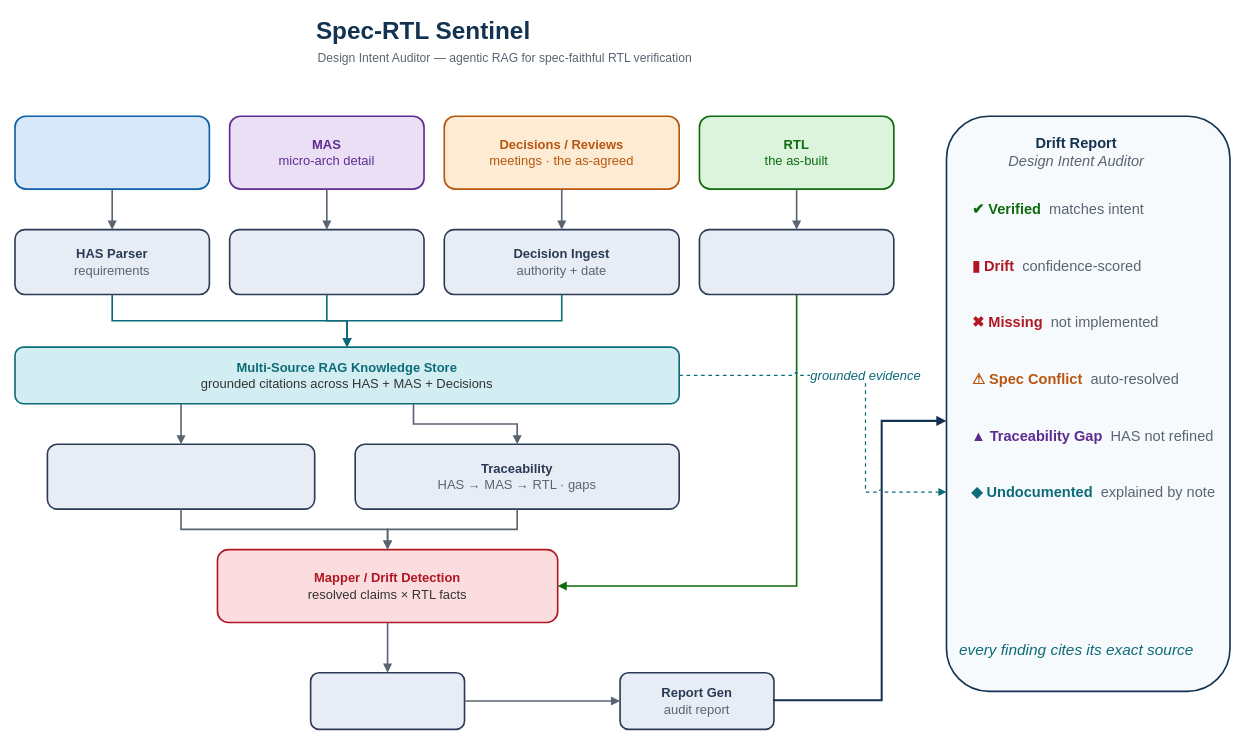
This 1244x744 diagram has some shape labels left out. The centre of each missing label's shape, as x and y in pixels:
Authority Resolver spec vs decisions → conflicts: the point at 180,476
Claim Extractor testable claims: the point at 326,261
HAS top-level intent: the point at 112,152
RTL Scanner ports · regs · FSM: the point at 796,261
Sim Checker confirm: the point at 387,700
